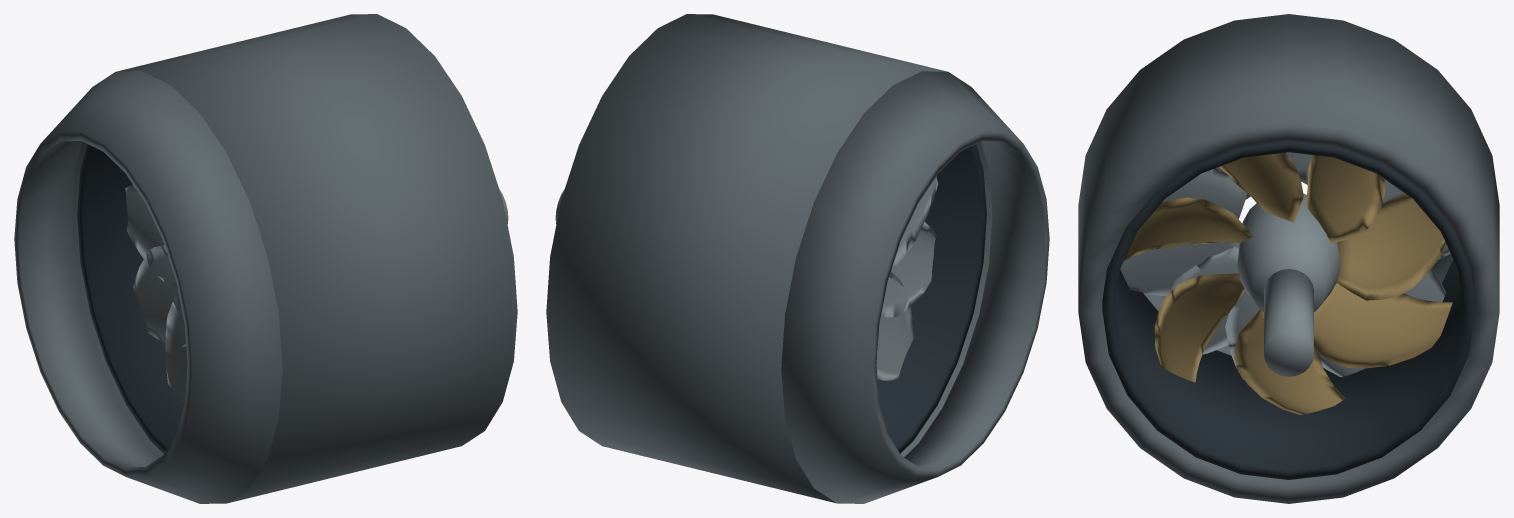
Rendered from US_PJ_Virginia_LOD1.fbx.
3 views of the same model, side by side, from view 1: azimuth 30°, elevation 25°; view 2: azimuth 150°, elevation 25°; view 3: azimuth 270°, elevation 25° (orthographic). The views are drawn at different scales.
Parts seen in each view (by area): view 1: US_PJ_Virginia_LOD1_Housing.001, US_PJ_Virginia_LOD1_Nozzle.001, US_PJ_Virginia_LOD1_Lining.001, US_PJ_Virginia_LOD1_Stator_10.001, US_PJ_Virginia_LOD1_Stator_09.001, US_PJ_Virginia_LOD1_Stator_00.001; view 2: US_PJ_Virginia_LOD1_Housing.001, US_PJ_Virginia_LOD1_Nozzle.001, US_PJ_Virginia_LOD1_Lining.001, US_PJ_Virginia_LOD1_Stator_06.001, US_PJ_Virginia_LOD1_Stator_07.001, US_PJ_Virginia_LOD1_Stator_05.001; view 3: US_PJ_Virginia_LOD1_Housing.001, US_PJ_Virginia_LOD1_Lining.001, US_PJ_Virginia_LOD1_Rotor_06.001, US_PJ_Virginia_LOD1_Rotor_00.001, US_PJ_Virginia_LOD1_Hub.001, US_PJ_Virginia_LOD1_Rotor_04.001, US_PJ_Virginia_LOD1_Rotor_01.001, US_PJ_Virginia_LOD1_Shaft.001, US_PJ_Virginia_LOD1_Rotor_05.001, US_PJ_Virginia_LOD1_Rotor_03.001, US_PJ_Virginia_LOD1_Rotor_02.001, US_PJ_Virginia_LOD1_Stator_06.001 (+5 smaller).
Part boxes in pixels (x1=…): US_PJ_Virginia_LOD1_Housing.001: x1=71, y1=14, x2=517, y2=503; US_PJ_Virginia_LOD1_Nozzle.001: x1=14, y1=71, x2=282, y2=503; US_PJ_Virginia_LOD1_Lining.001: x1=77, y1=144, x2=184, y2=453; US_PJ_Virginia_LOD1_Stator_10.001: x1=133, y1=245, x2=186, y2=346; US_PJ_Virginia_LOD1_Stator_09.001: x1=165, y1=296, x2=187, y2=403; US_PJ_Virginia_LOD1_Stator_00.001: x1=125, y1=184, x2=177, y2=289; US_PJ_Virginia_LOD1_Housing.001: x1=546, y1=14, x2=992, y2=503; US_PJ_Virginia_LOD1_Nozzle.001: x1=781, y1=71, x2=1049, y2=503; US_PJ_Virginia_LOD1_Lining.001: x1=877, y1=144, x2=986, y2=453; US_PJ_Virginia_LOD1_Stator_06.001: x1=881, y1=221, x2=936, y2=317; US_PJ_Virginia_LOD1_Stator_07.001: x1=876, y1=271, x2=914, y2=380; US_PJ_Virginia_LOD1_Stator_05.001: x1=892, y1=176, x2=938, y2=265; US_PJ_Virginia_LOD1_Housing.001: x1=1078, y1=14, x2=1499, y2=503; US_PJ_Virginia_LOD1_Lining.001: x1=1102, y1=142, x2=1475, y2=479; US_PJ_Virginia_LOD1_Rotor_06.001: x1=1314, y1=283, x2=1452, y2=368; US_PJ_Virginia_LOD1_Rotor_00.001: x1=1336, y1=193, x2=1446, y2=300; US_PJ_Virginia_LOD1_Hub.001: x1=1237, y1=193, x2=1340, y2=311; US_PJ_Virginia_LOD1_Rotor_04.001: x1=1154, y1=273, x2=1244, y2=382; US_PJ_Virginia_LOD1_Rotor_01.001: x1=1306, y1=155, x2=1385, y2=243; US_PJ_Virginia_LOD1_Shaft.001: x1=1264, y1=269, x2=1313, y2=376; US_PJ_Virginia_LOD1_Rotor_05.001: x1=1234, y1=309, x2=1345, y2=414; US_PJ_Virginia_LOD1_Rotor_03.001: x1=1124, y1=197, x2=1252, y2=260; US_PJ_Virginia_LOD1_Rotor_02.001: x1=1219, y1=152, x2=1303, y2=222; US_PJ_Virginia_LOD1_Stator_06.001: x1=1120, y1=242, x2=1239, y2=295.
Bounding box in the file's own units: 578 × 570 × 570.
